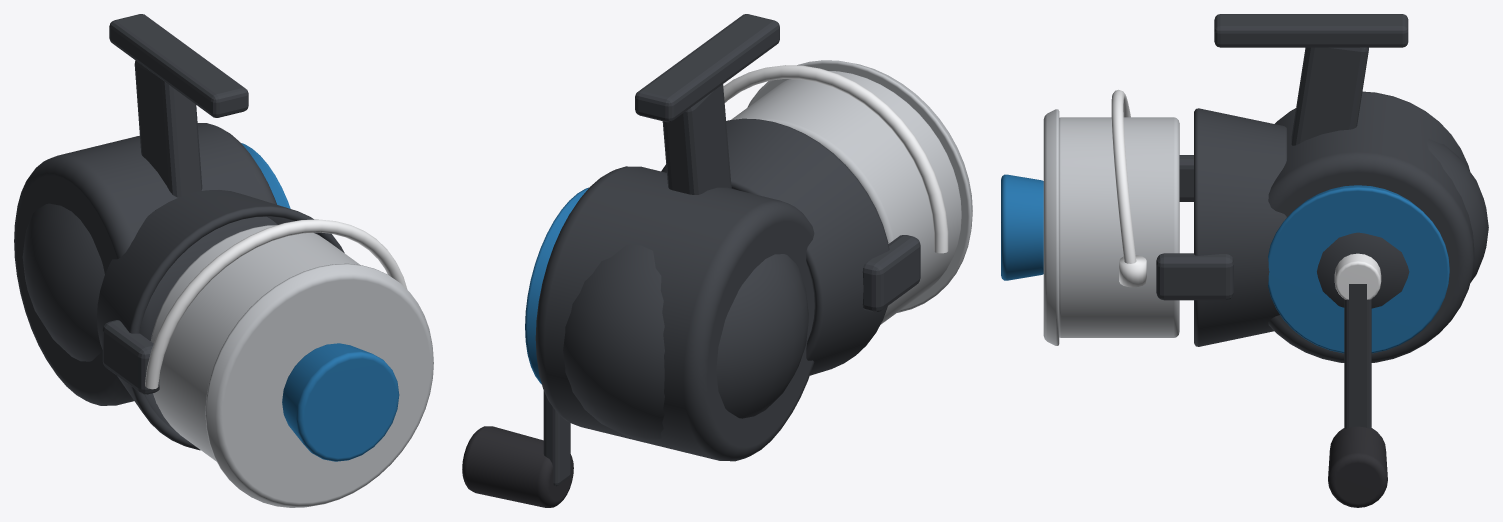
Rendered from reel.glb.
The picture shows the model from 3 angles, left to right: view 1: azimuth 30°, elevation 25°; view 2: azimuth 150°, elevation 25°; view 3: azimuth 270°, elevation 25°; orthographic projection. The views are drawn at different scales.
Parts seen in each view (by area): view 1: spool_lip, gearbox, spool, rotor_cup, drag_knob, back, foot, stem, bail, bail_arm_L, sideplate; view 2: gearbox, back, rotor_cup, spool, foot, crank_knob, stem, bail, spool_lip, bail_arm_L, sideplate, crank_arm; view 3: spool, gearbox, sideplate, rotor_cup, foot, back, stem, drag_knob, crank_knob, spool_lip, crank_arm, bail_arm_R (+4 smaller).
Boxes of the visible parts, x1,y1,x2,y2 form: spool_lip: (205, 263, 433, 507); gearbox: (14, 123, 277, 405); spool: (150, 225, 359, 461); rotor_cup: (97, 190, 344, 450); drag_knob: (282, 343, 399, 461); back: (22, 203, 104, 361); foot: (109, 14, 248, 117); stem: (134, 60, 202, 197); bail: (145, 219, 407, 389); bail_arm_L: (102, 320, 159, 394); sideplate: (241, 143, 290, 208); gearbox: (535, 166, 814, 461); back: (563, 244, 808, 442); rotor_cup: (661, 118, 889, 375); spool: (731, 71, 961, 324); foot: (635, 14, 779, 122); crank_knob: (462, 426, 573, 507); stem: (662, 84, 731, 194); bail: (723, 65, 948, 253); spool_lip: (747, 60, 972, 312); bail_arm_L: (862, 235, 920, 312); sideplate: (525, 187, 589, 384); crank_arm: (543, 391, 570, 486); spool: (1059, 117, 1179, 337); gearbox: (1268, 91, 1474, 362); sideplate: (1268, 185, 1449, 353); rotor_cup: (1194, 108, 1287, 346); foot: (1214, 14, 1408, 47); back: (1317, 139, 1488, 308); stem: (1291, 47, 1368, 145); drag_knob: (1001, 174, 1043, 280); crank_knob: (1328, 426, 1387, 507); spool_lip: (1043, 109, 1059, 345); crank_arm: (1344, 284, 1371, 428); bail_arm_R: (1156, 253, 1233, 300).
Bounding box in the file's own units: 0.0886 × 0.1147 × 0.1257.
